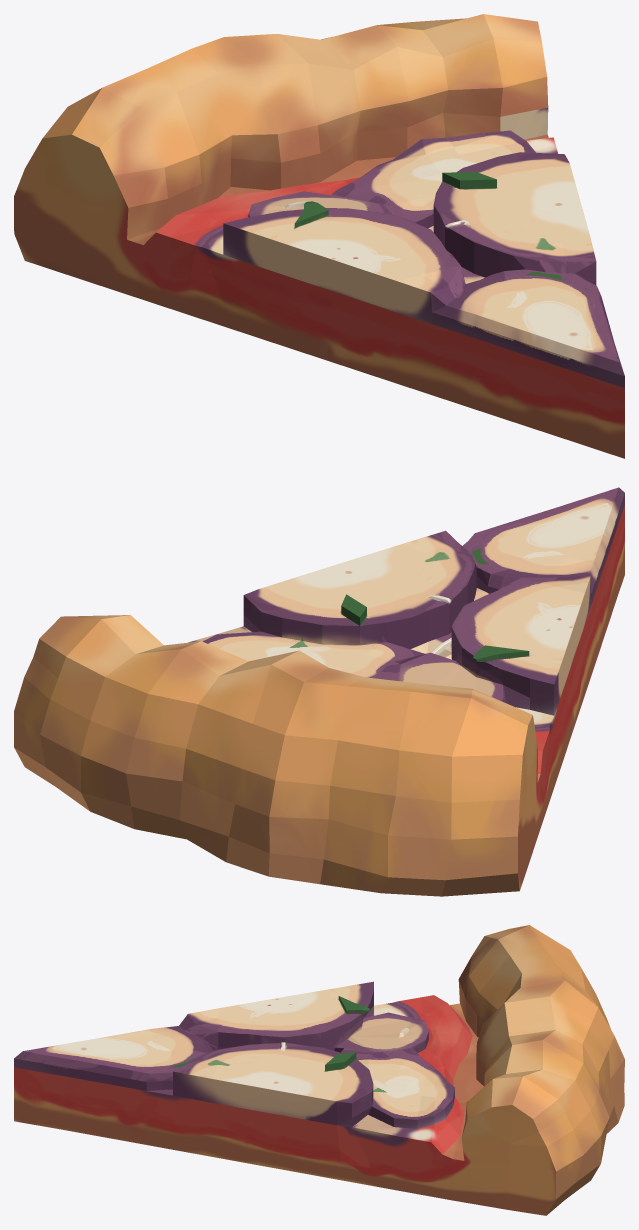
The model's file is pizza_P4.fbx.
3 views of the same model, one above another, from view 1: azimuth 30°, elevation 25°; view 2: azimuth 150°, elevation 25°; view 3: azimuth 270°, elevation 25° (orthographic). The views are drawn at different scales.
Visible parts, largest first — view 1: Cylinder.003; view 2: Cylinder.003; view 3: Cylinder.003.
Boxes of the visible parts, x1,y1,x2,y2 form: Cylinder.003: (14,14,624,458); Cylinder.003: (14,487,624,896); Cylinder.003: (14,925,624,1215).
Size of the model in its own units: 118 by 37.49 by 161.
Materials: 1 (1 with a texture image).
